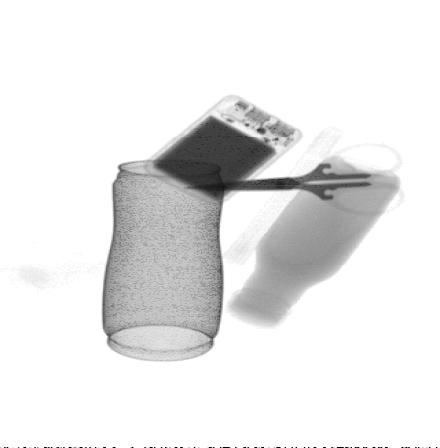Powerbank: (143, 91, 302, 206)
Scissors: (180, 140, 406, 218)
